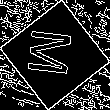M_E: (27, 29, 83, 81)
